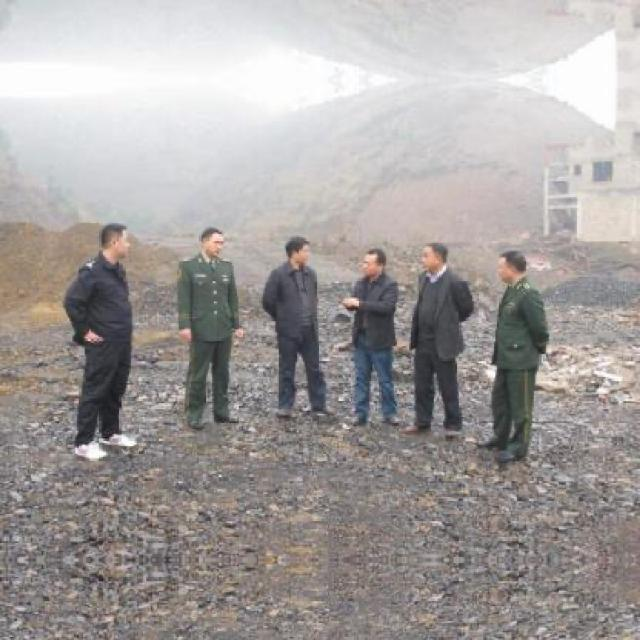sin casco: (469, 235, 551, 305), (271, 222, 343, 282), (195, 210, 270, 265), (336, 233, 405, 282), (415, 233, 453, 284)
